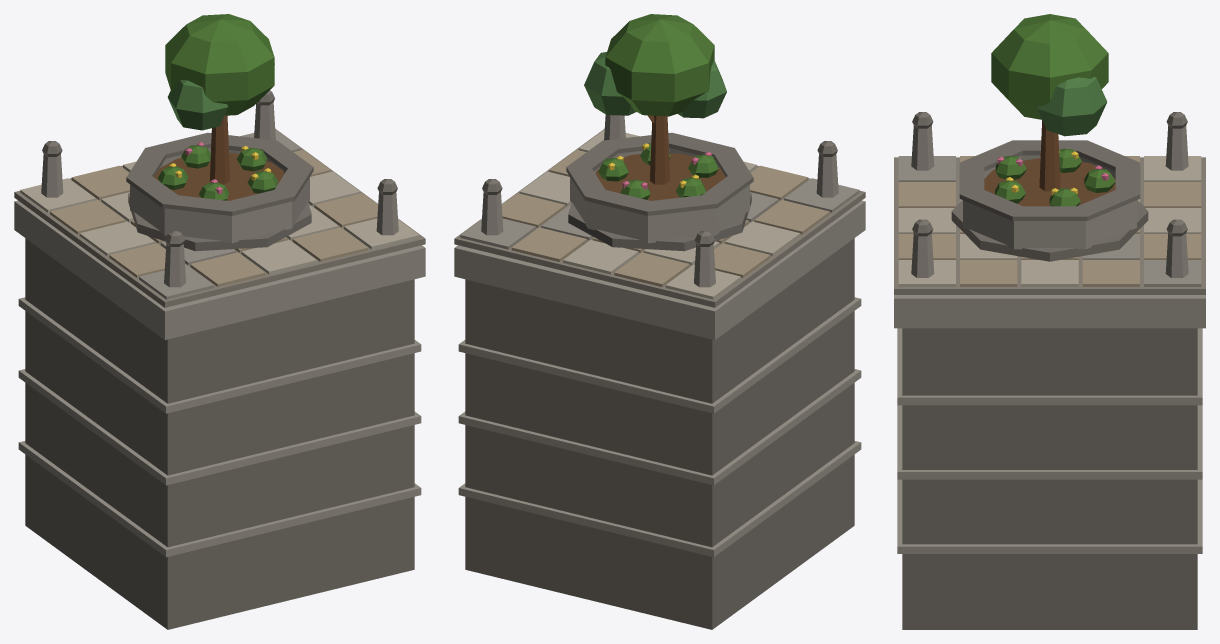
File: decor_plaza_planter.glb
The picture shows the model from 3 angles, left to right: view 1: azimuth 30°, elevation 25°; view 2: azimuth 150°, elevation 25°; view 3: azimuth 270°, elevation 25°; orthographic projection. The views are drawn at different scales.
Visible parts, largest first — view 1: decor_plaza_planter; view 2: decor_plaza_planter; view 3: decor_plaza_planter.
Boxes of the visible parts, bbox=[...] form: decor_plaza_planter: bbox=[14, 14, 425, 629]; decor_plaza_planter: bbox=[454, 14, 865, 629]; decor_plaza_planter: bbox=[894, 14, 1205, 629].
Bounding box in the file's own units: 3.8 × 7.36 × 3.8.
